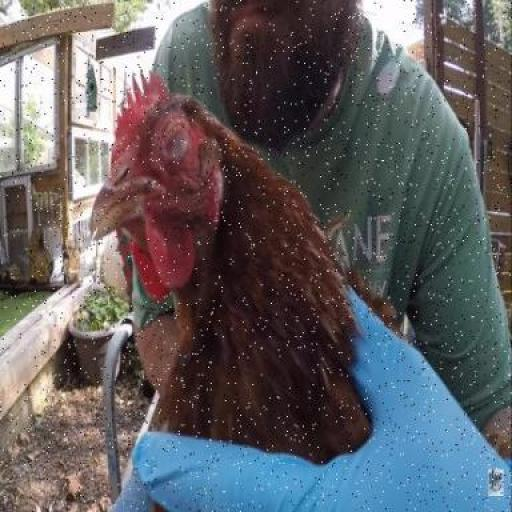disease: (148, 112, 230, 205)
